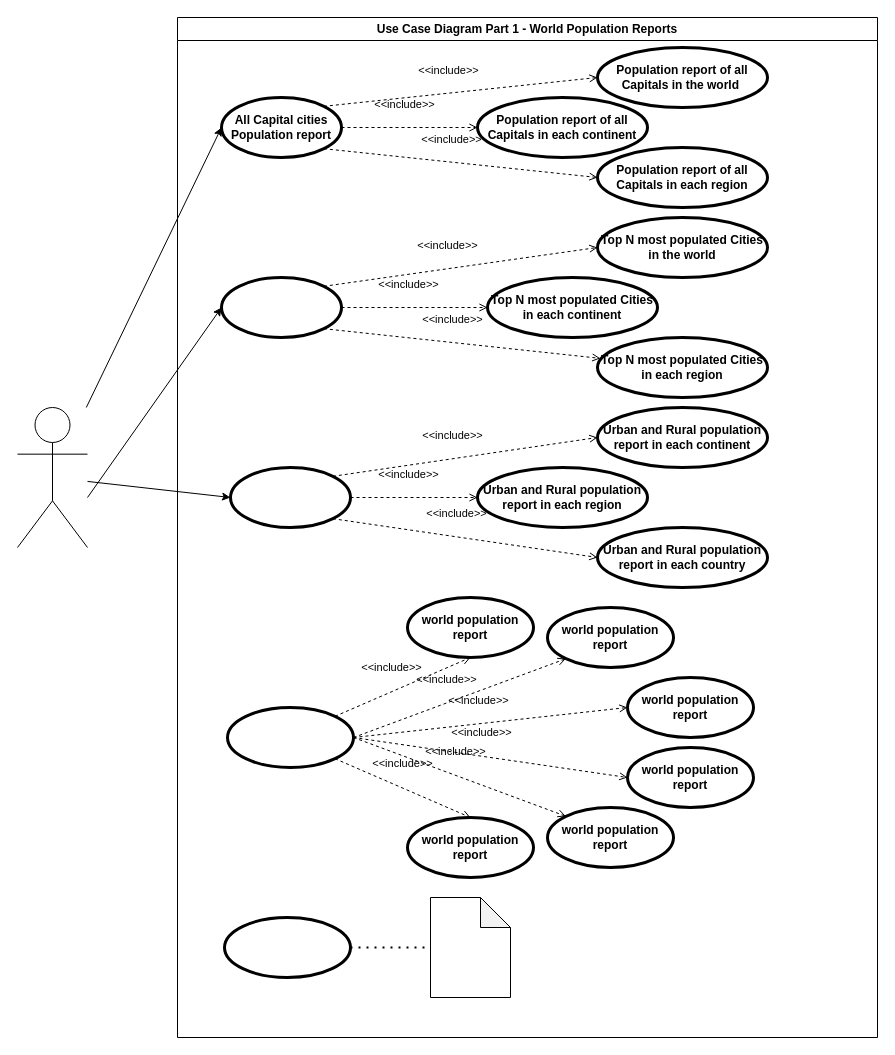
The diagram is 895 pixels wide and 1055 high, and some of its shapes have lost their labels. Each missing label, with the box of its shape:
Chinese, English, Hindi, Spanish, Arabic: (430, 896, 510, 998)
Data Analyst: (16, 406, 88, 548)
Population reports based on languages: (222, 916, 352, 978)
Population reports based on multiple categories: (226, 706, 354, 768)
Top N Most Populated Cities Report: (220, 276, 342, 338)
Urban and Rural Population report: (228, 466, 352, 528)
